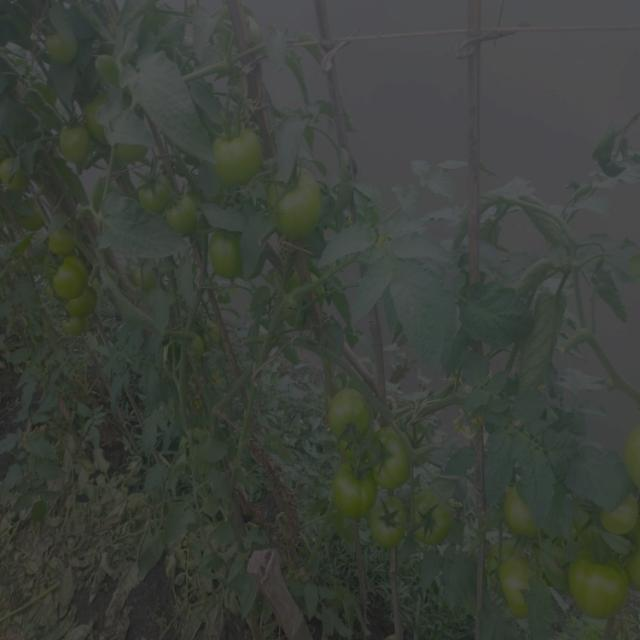tomato: (570, 551, 629, 623), (277, 167, 324, 248), (209, 125, 267, 188), (407, 490, 452, 550), (372, 428, 414, 491), (334, 461, 378, 520), (499, 556, 536, 622), (329, 389, 374, 443), (157, 191, 201, 245), (368, 498, 411, 552), (505, 487, 544, 545), (40, 31, 88, 75), (204, 230, 243, 282), (59, 121, 101, 169), (52, 254, 93, 300), (603, 503, 640, 538), (141, 176, 174, 214), (68, 285, 104, 318), (44, 225, 83, 255), (1, 159, 31, 197), (624, 425, 640, 492), (114, 143, 155, 163), (59, 316, 95, 337), (197, 317, 221, 348), (624, 548, 640, 589)
